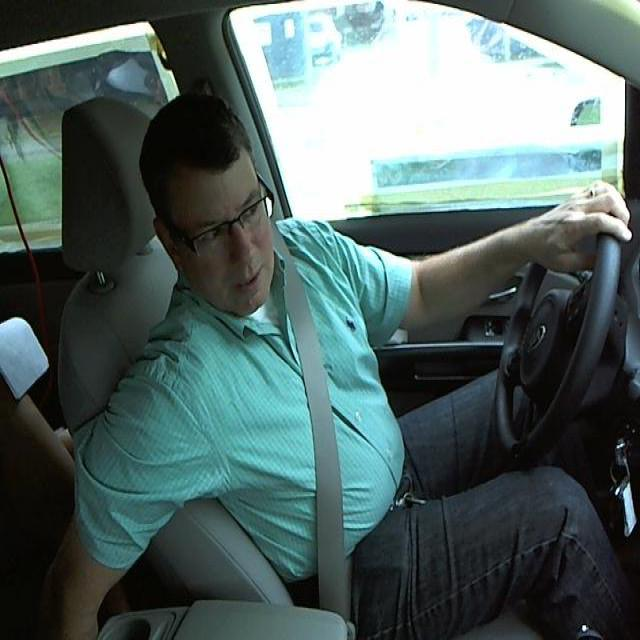seatbelt: (264, 267, 377, 609)
